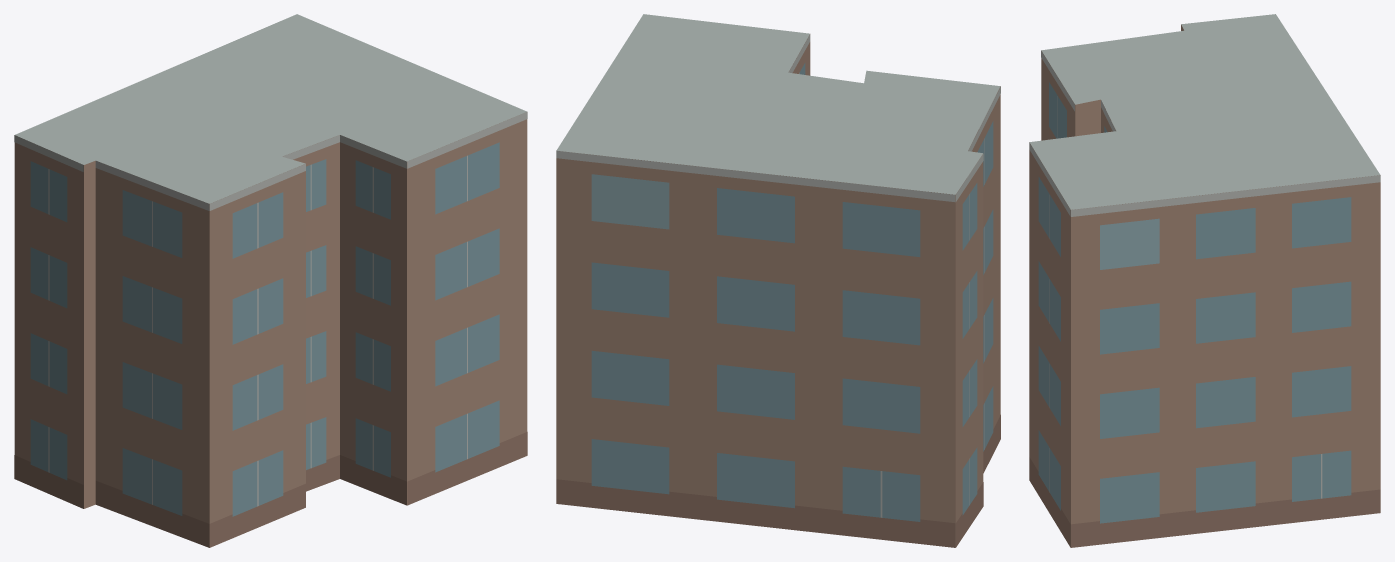
Rendered from survey-upis-32592773.glb.
3 renders of one model, left to right at view 1: azimuth 30°, elevation 25°; view 2: azimuth 150°, elevation 25°; view 3: azimuth 270°, elevation 25°, orthographic. The views are drawn at different scales.
Visible parts, largest first — view 1: survey-upis-32592773.tmp; view 2: survey-upis-32592773.tmp; view 3: survey-upis-32592773.tmp.
Boxes of the visible parts, x1,y1,x2,y2 form: survey-upis-32592773.tmp: (14,14,527,547); survey-upis-32592773.tmp: (556,14,1000,547); survey-upis-32592773.tmp: (1029,14,1380,547).
Bounding box in the file's own units: 14.24 × 11.45 × 10.79.
